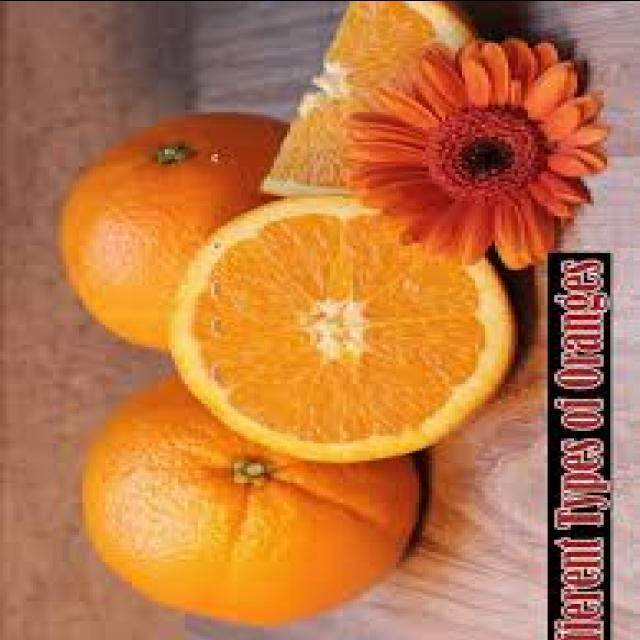orange: (170, 179, 530, 462)
